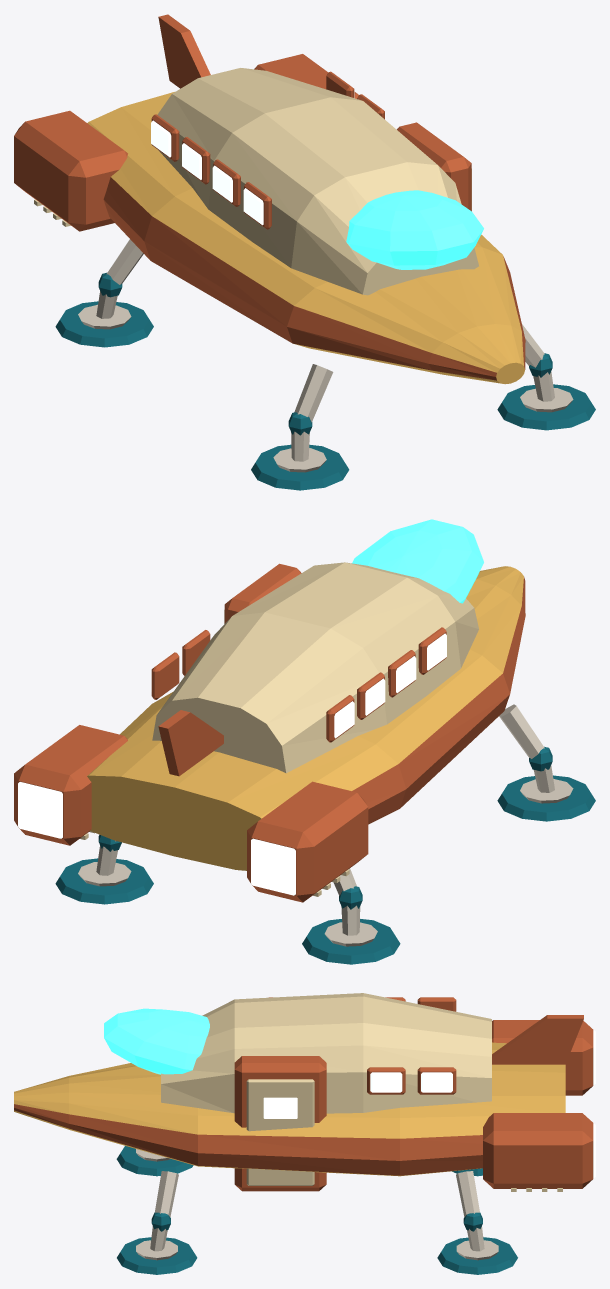
Rendered from dun-p_gelandet.glb.
3 views of the same model, one above another, from view 1: azimuth 30°, elevation 25°; view 2: azimuth 150°, elevation 25°; view 3: azimuth 270°, elevation 25° (orthographic). The views are drawn at different scales.
Visible parts, largest first — view 1: rumpf, kabine, triebwerk_r, cockpit, landebein_2, landebein_4, fenster, landebein_1, leitwerk, türmodul, triebwerk_l; view 2: rumpf, kabine, triebwerk_r, triebwerk_l, cockpit, fenster, landebein_2, landebein_4, landebein_3, leitwerk, türmodul; view 3: rumpf, kabine, triebwerk_l, cockpit, tür, türmodul, landebein_3, landebein_1, leitwerk, fenster, triebwerk_r, landebein_2.
Boxes of the visible parts, x1,y1,x2,y2 form: rumpf: [87, 92, 525, 384]; kabine: [157, 68, 478, 295]; triebwerk_r: [14, 110, 127, 231]; cockpit: [346, 190, 483, 269]; landebein_2: [251, 364, 349, 490]; landebein_4: [55, 239, 153, 347]; fenster: [151, 71, 385, 229]; landebein_1: [497, 324, 595, 430]; leitwerk: [158, 14, 210, 88]; türmodul: [397, 122, 471, 210]; triebwerk_l: [254, 54, 358, 98]; rumpf: [87, 566, 525, 870]; kabine: [152, 562, 478, 773]; triebwerk_r: [247, 781, 368, 902]; triebwerk_l: [14, 725, 127, 845]; cockpit: [352, 519, 483, 603]; fenster: [151, 627, 446, 742]; landebein_2: [497, 704, 595, 821]; landebein_4: [302, 868, 400, 964]; landebein_3: [55, 834, 153, 904]; leitwerk: [158, 710, 223, 776]; türmodul: [224, 563, 301, 623]; rumpf: [14, 1042, 565, 1176]; kabine: [161, 993, 491, 1113]; triebwerk_l: [483, 1113, 595, 1191]; cockpit: [104, 1008, 209, 1074]; tür: [246, 1079, 314, 1185]; türmodul: [234, 1056, 326, 1191]; landebein_3: [437, 1171, 517, 1274]; landebein_1: [117, 1171, 197, 1274]; leitwerk: [492, 1015, 583, 1064]; fenster: [269, 997, 456, 1094]; triebwerk_r: [492, 1020, 595, 1095]; landebein_2: [116, 1146, 193, 1176].
Bounding box in the file's own units: 0.0855 × 0.0596 × 0.1582.
